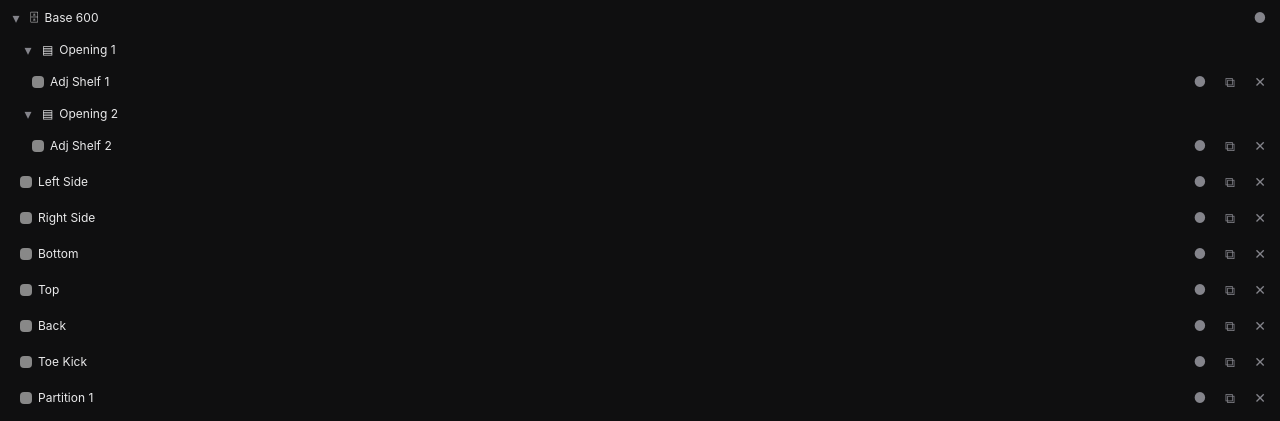
a cabinet expands into its openings › collapsing an opening hides its parts and leaves the other one alone
Click the button named "Collapse Opening 1 of Base 600". click: point(28, 50)
box: [20,42,36,58]
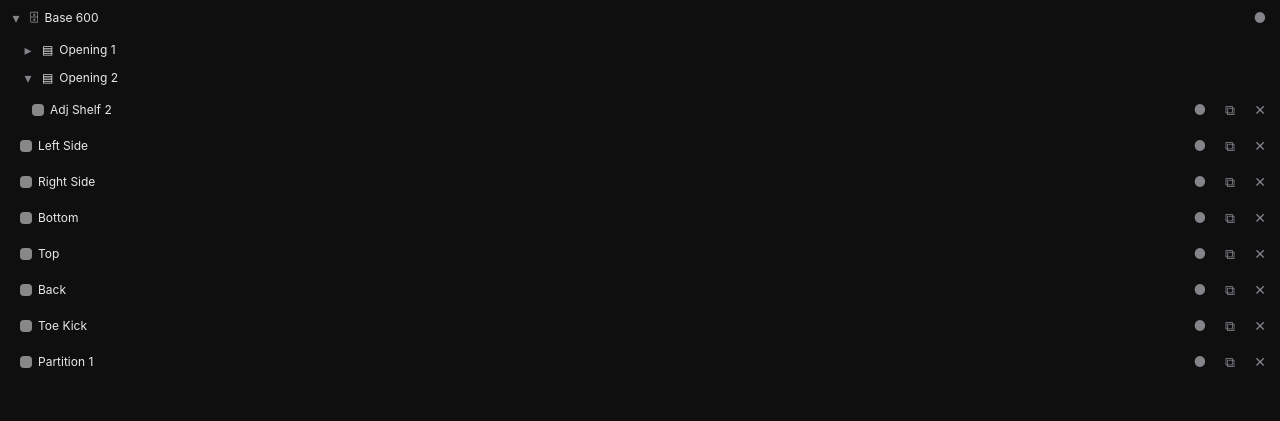
Now the button named "Expand Opening 1 of Base 600" is shown, box [20,42,36,58]
